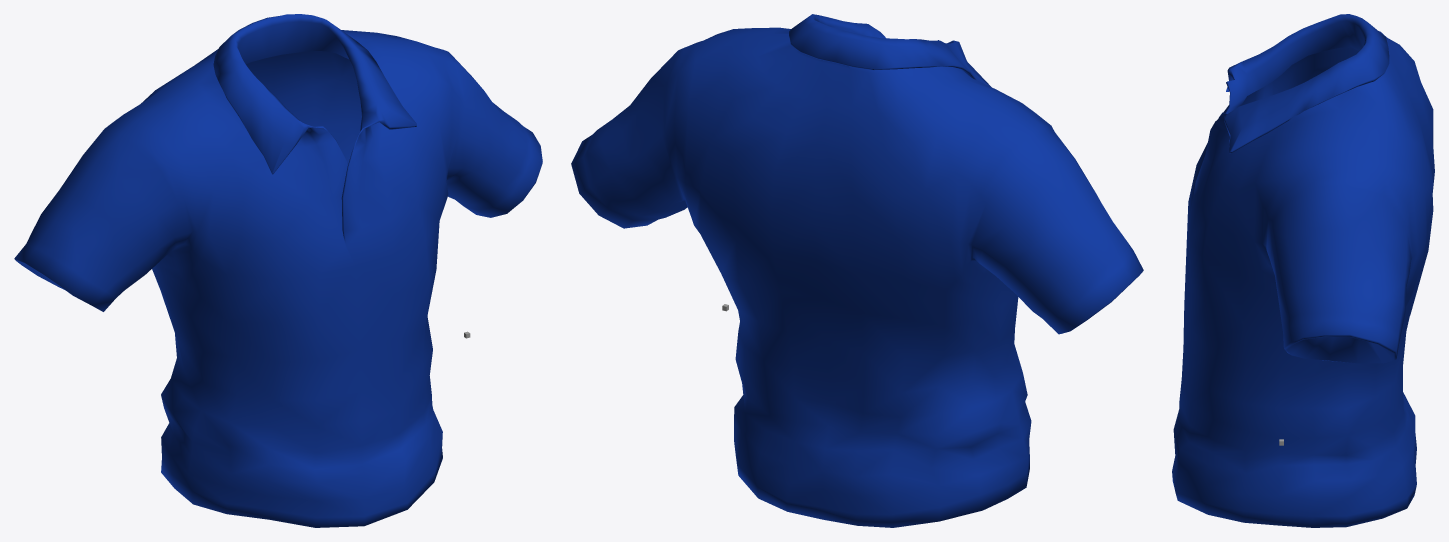
The model's file is skirt1.obj.
3 views of the same model, side by side, from view 1: azimuth 30°, elevation 25°; view 2: azimuth 150°, elevation 25°; view 3: azimuth 270°, elevation 25° (orthographic). The views are drawn at different scales.
Parts seen in each view (by area): view 1: Mesh_0219.rip_Tex_011_Mesh_0219.rip_Tex_011_Tex_0117_0.dds_.000; view 2: Mesh_0219.rip_Tex_011_Mesh_0219.rip_Tex_011_Tex_0117_0.dds_.000; view 3: Mesh_0219.rip_Tex_011_Mesh_0219.rip_Tex_011_Tex_0117_0.dds_.000.
Boxes of the visible parts, box(x1,y1,x2,y2) form: Mesh_0219.rip_Tex_011_Mesh_0219.rip_Tex_011_Tex_0117_0.dds_.000: box(14, 14, 542, 527); Mesh_0219.rip_Tex_011_Mesh_0219.rip_Tex_011_Tex_0117_0.dds_.000: box(571, 14, 1143, 527); Mesh_0219.rip_Tex_011_Mesh_0219.rip_Tex_011_Tex_0117_0.dds_.000: box(1172, 14, 1434, 527).
Bounding box in the file's own units: 253 × 209 × 111.
